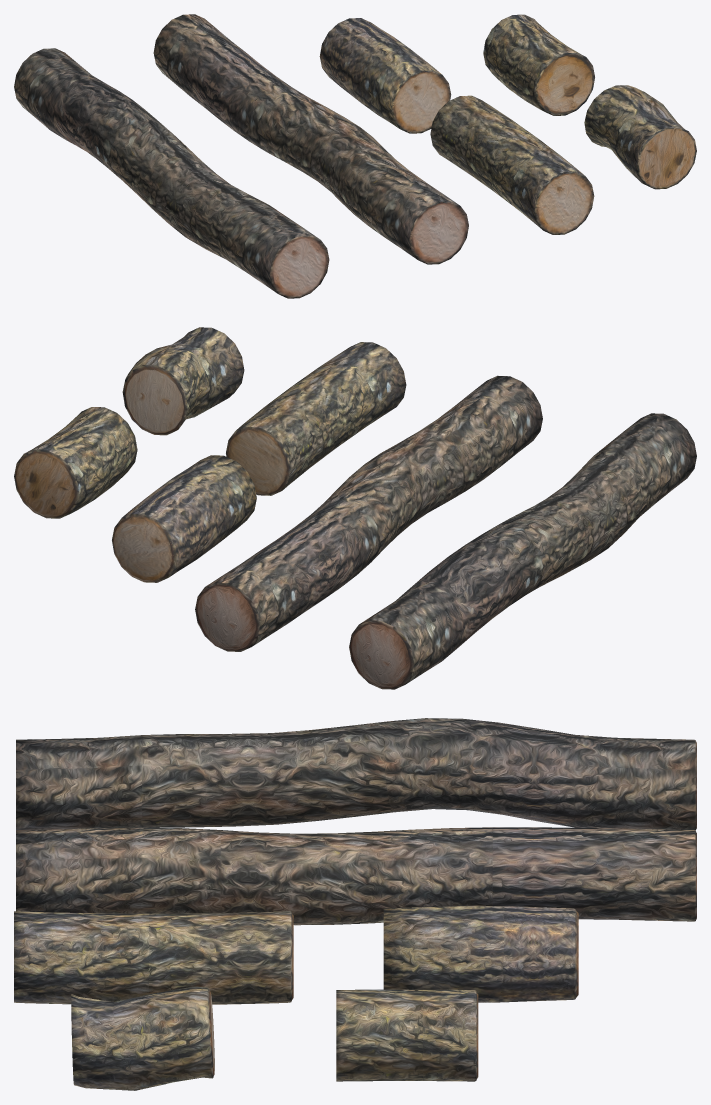
File: log.fbx
The picture shows the model from 3 angles, top to bottom: view 1: azimuth 30°, elevation 25°; view 2: azimuth 150°, elevation 25°; view 3: azimuth 270°, elevation 25°; orthographic projection. The views are drawn at different scales.
Visible parts, largest first — view 1: Log06, Log05, Log04, Log03, Log02, Log01; view 2: Log06, Log05, Log04, Log03, Log01, Log02; view 3: Log06, Log05, Log04, Log03, Log01, Log02.
Boxes of the visible parts, box(x1,y1,x2,y2) form: Log06: box(14, 48, 329, 298); Log05: box(153, 14, 468, 264); Log04: box(430, 95, 594, 234); Log03: box(319, 18, 451, 133); Log02: box(584, 85, 696, 189); Log01: box(483, 14, 594, 115); Log06: box(349, 413, 696, 689); Log05: box(195, 375, 542, 651); Log04: box(226, 342, 406, 495); Log03: box(112, 455, 256, 582); Log01: box(14, 407, 137, 518); Log02: box(122, 327, 244, 435); Log06: box(16, 718, 696, 830); Log05: box(16, 827, 696, 925); Log04: box(14, 911, 293, 1004); Log03: box(383, 905, 578, 1002); Log01: box(336, 989, 478, 1081); Log02: box(71, 987, 214, 1090).
Bounding box in the file's own units: 10.9 × 10.45 × 1.73.
Materials: 2 (2 with a texture image).
